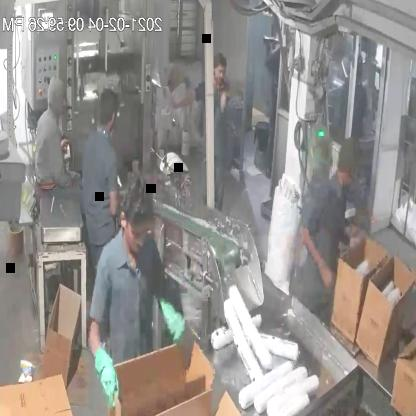glove: (87, 320, 133, 415), (153, 275, 188, 340)
no_glove: (298, 221, 336, 291), (159, 77, 204, 119)
